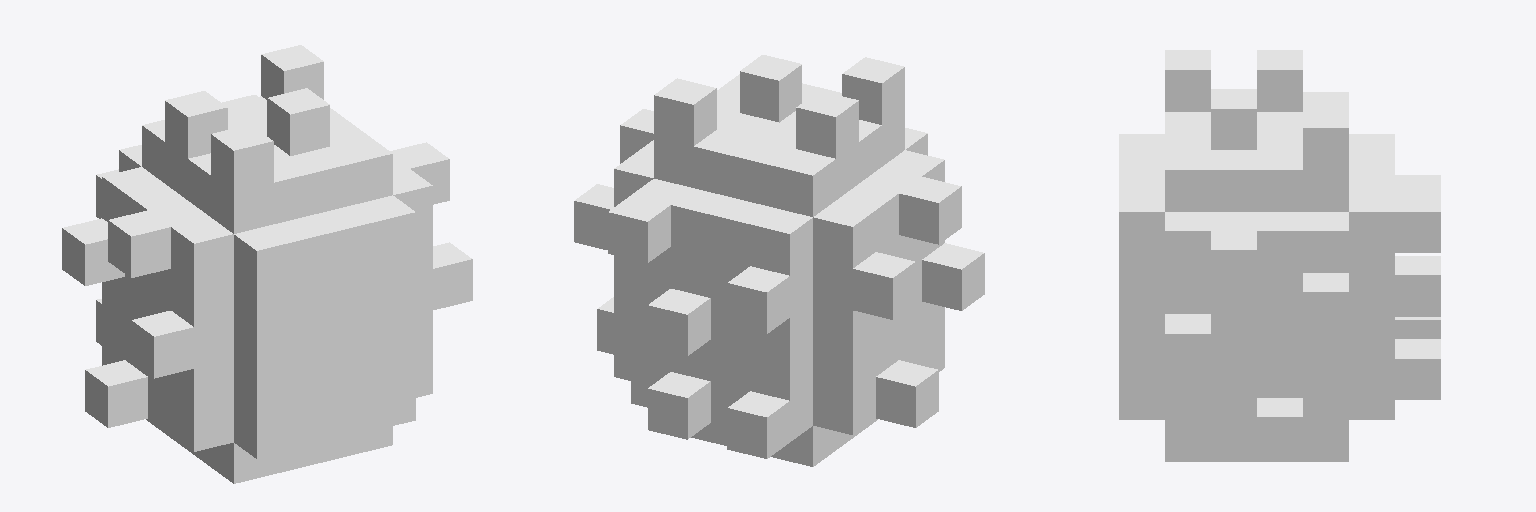
The model's file is PufferFish.obj.
The picture shows the model from 3 angles: view 1: azimuth 30°, elevation 25°; view 2: azimuth 150°, elevation 25°; view 3: azimuth 270°, elevation 25°; orthographic projection.
Visible parts, largest first — view 1: object 1; view 2: object 1; view 3: object 1.
Part boxes in pixels (x1,y1,x2,y2): object 1: (62, 45, 472, 483); object 1: (574, 55, 984, 466); object 1: (1119, 50, 1440, 461).
Bounding box in the file's own units: 0.8 × 0.8 × 0.7.